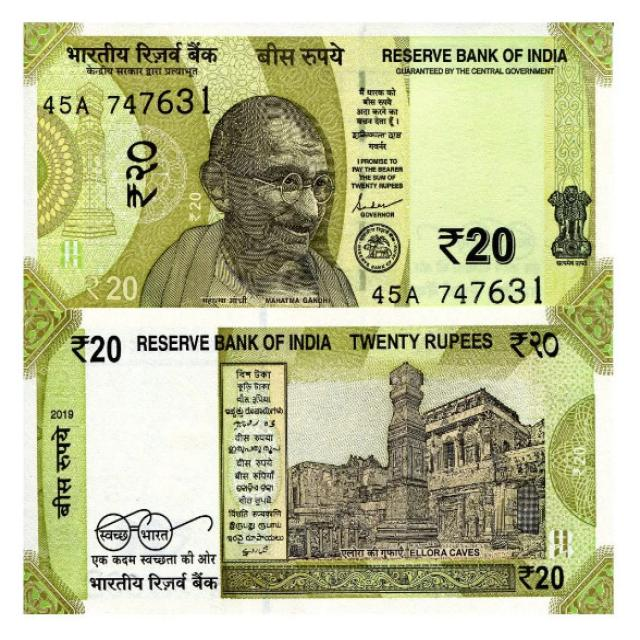20IndianRupees: (0, 1, 619, 312), (21, 314, 616, 613), (1, 0, 411, 306), (212, 318, 616, 616), (240, 0, 617, 308), (20, 314, 345, 616)
